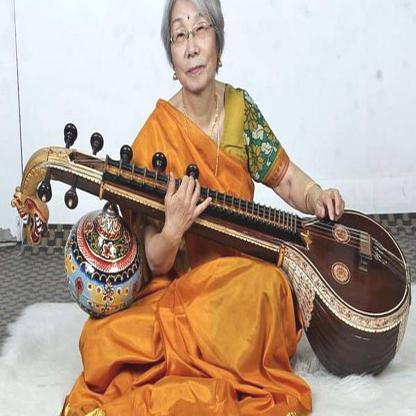Veena: (58, 148, 416, 339)
